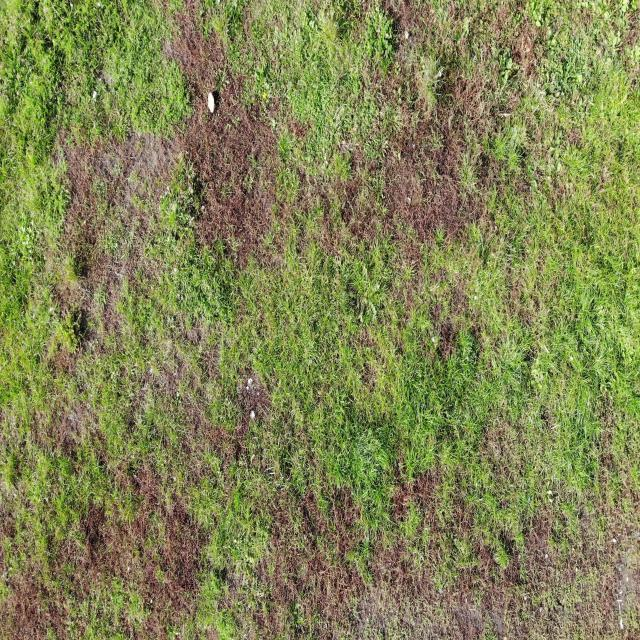rubbish: (207, 92, 215, 116)
